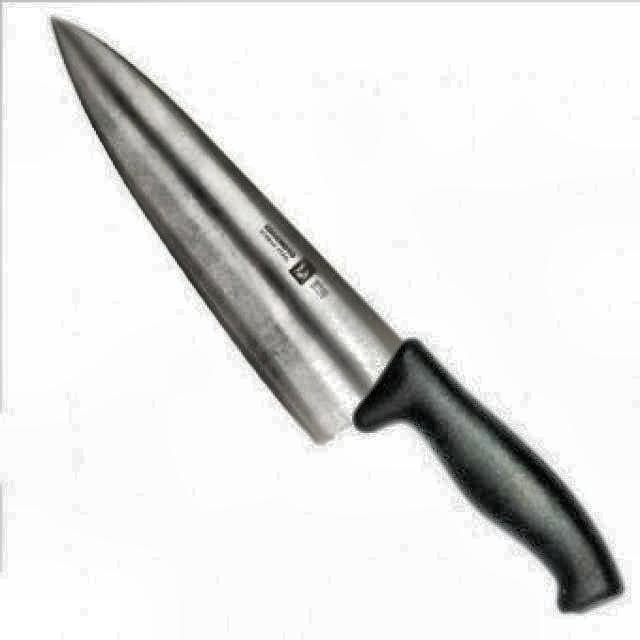knife: (51, 14, 624, 614)
